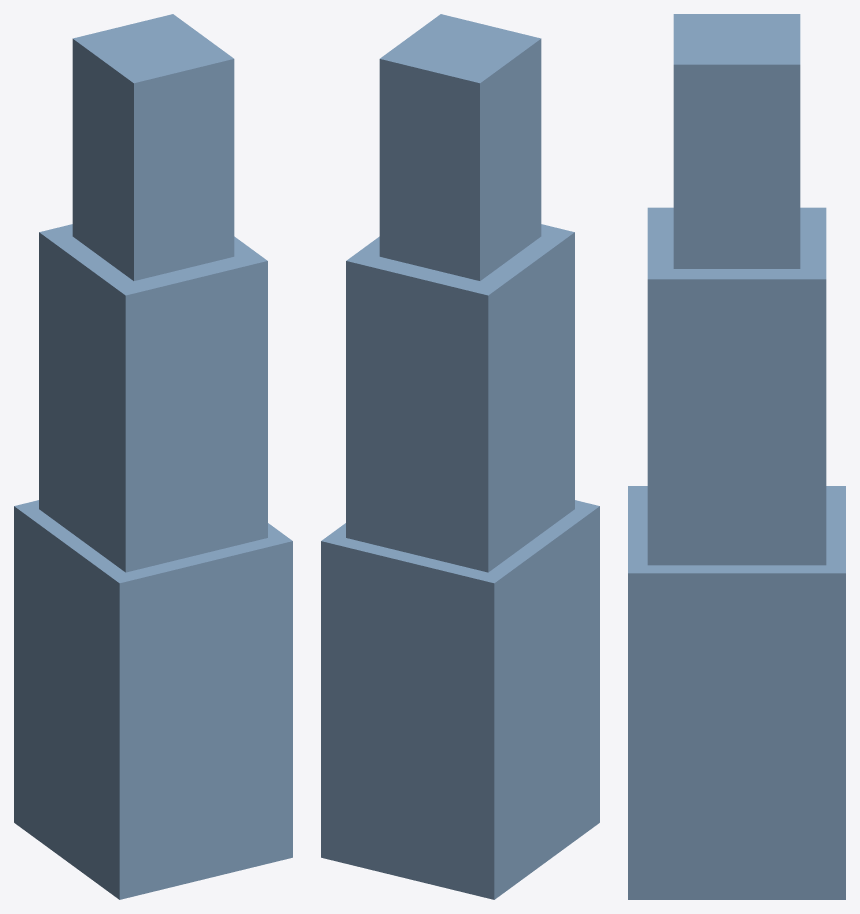
File: tower_step.glb
3 renders of one model, left to right at view 1: azimuth 30°, elevation 25°; view 2: azimuth 150°, elevation 25°; view 3: azimuth 270°, elevation 25°, orthographic. The views are drawn at different scales.
Visible parts, largest first — view 1: tower_step; view 2: tower_step; view 3: tower_step.
Boxes of the visible parts, left/top/right/bottom form: tower_step: left=14, top=14, right=292, bottom=899; tower_step: left=321, top=14, right=599, bottom=899; tower_step: left=628, top=14, right=845, bottom=899.
Bounding box in the file's own units: 0.55 × 2.4 × 0.58.
